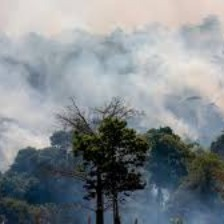incendio: (1, 20, 217, 164), (132, 98, 166, 224)
